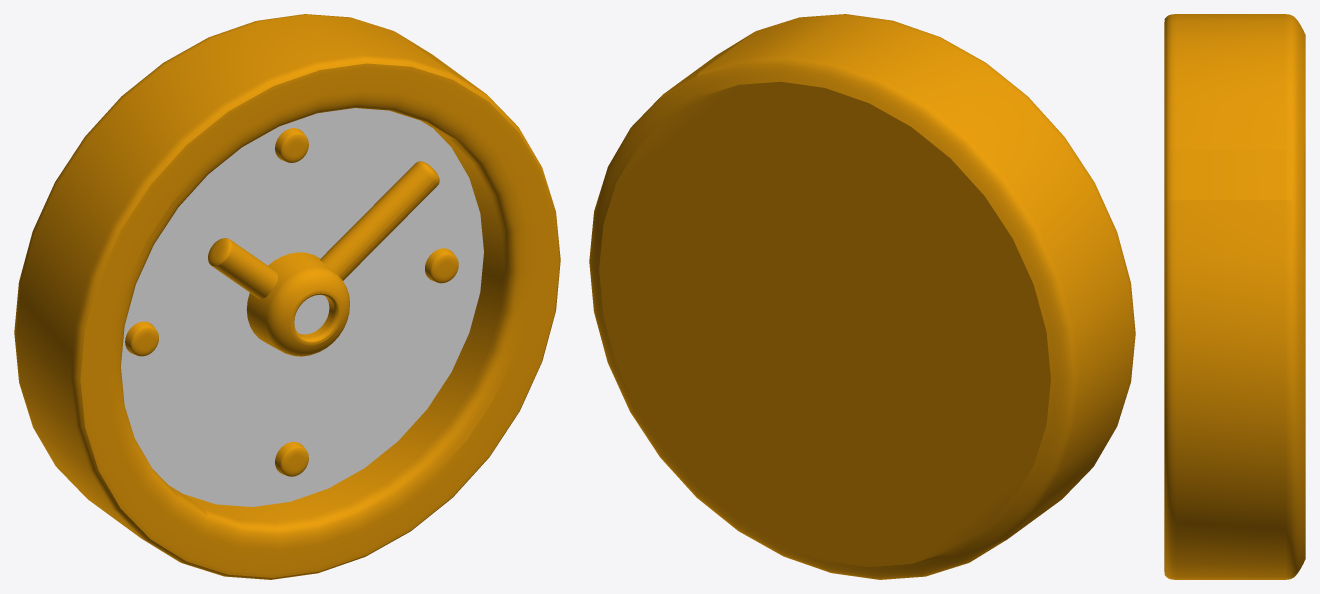
Rendered from clock.glb.
The picture shows the model from 3 angles, left to right: view 1: azimuth 30°, elevation 25°; view 2: azimuth 150°, elevation 25°; view 3: azimuth 270°, elevation 25°; orthographic projection.
Visible parts, largest first — view 1: Cylinder018, Cylinder018_1; view 2: Cylinder018; view 3: Cylinder018.
Boxes of the visible parts, <box> form: Cylinder018: <box>14,14,560,579</box>; Cylinder018_1: <box>121,108,483,506</box>; Cylinder018: <box>589,14,1135,579</box>; Cylinder018: <box>1164,14,1305,579</box>.
Size of the model in its own units: 2 by 2 by 0.4984.
